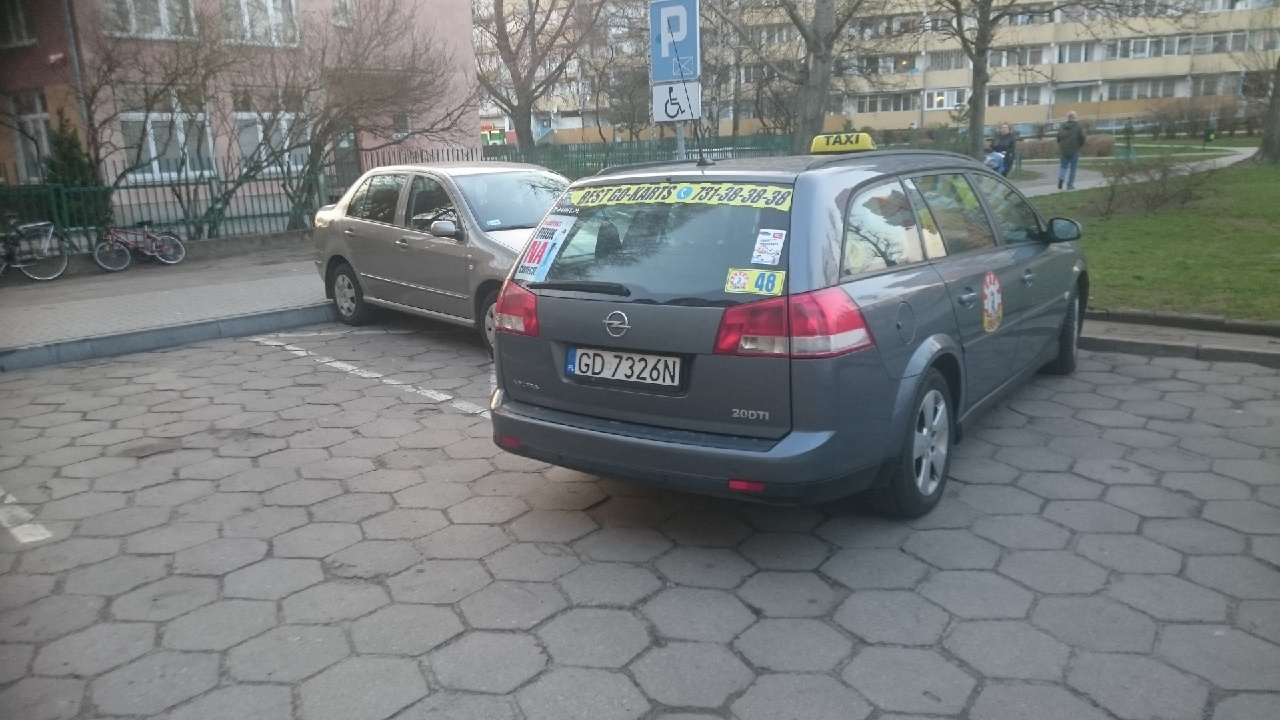D18: (648, 1, 702, 80)
